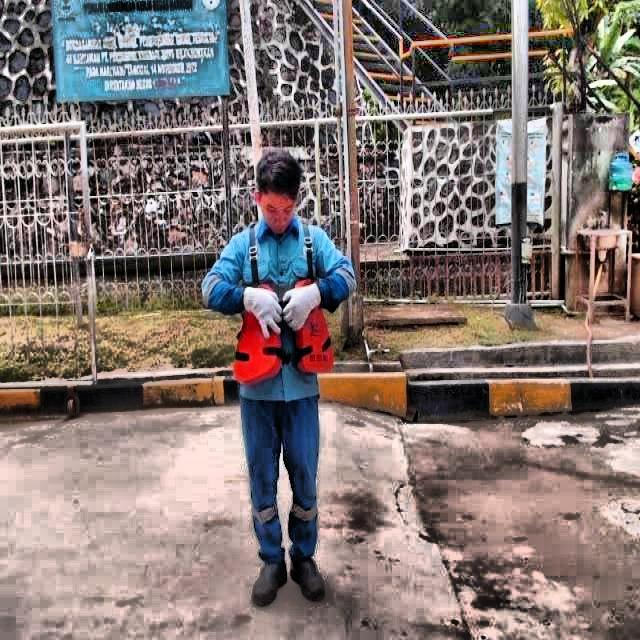safety_jacket: (232, 225, 342, 400)
